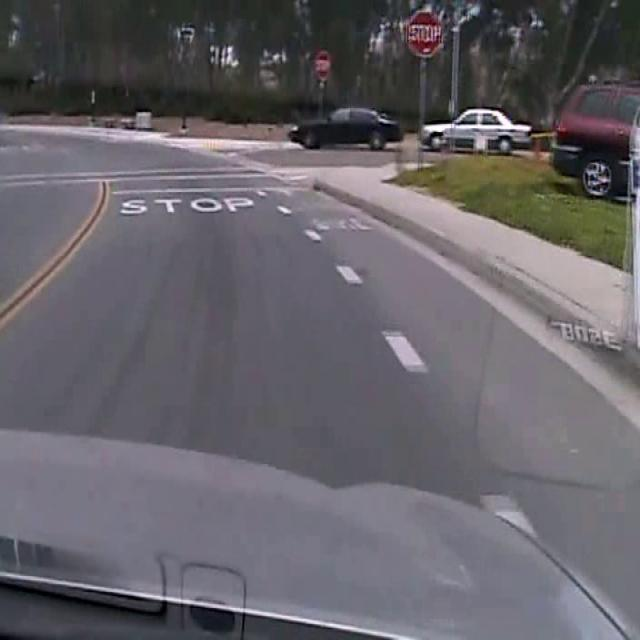stop: (406, 8, 441, 56), (314, 49, 331, 80)
